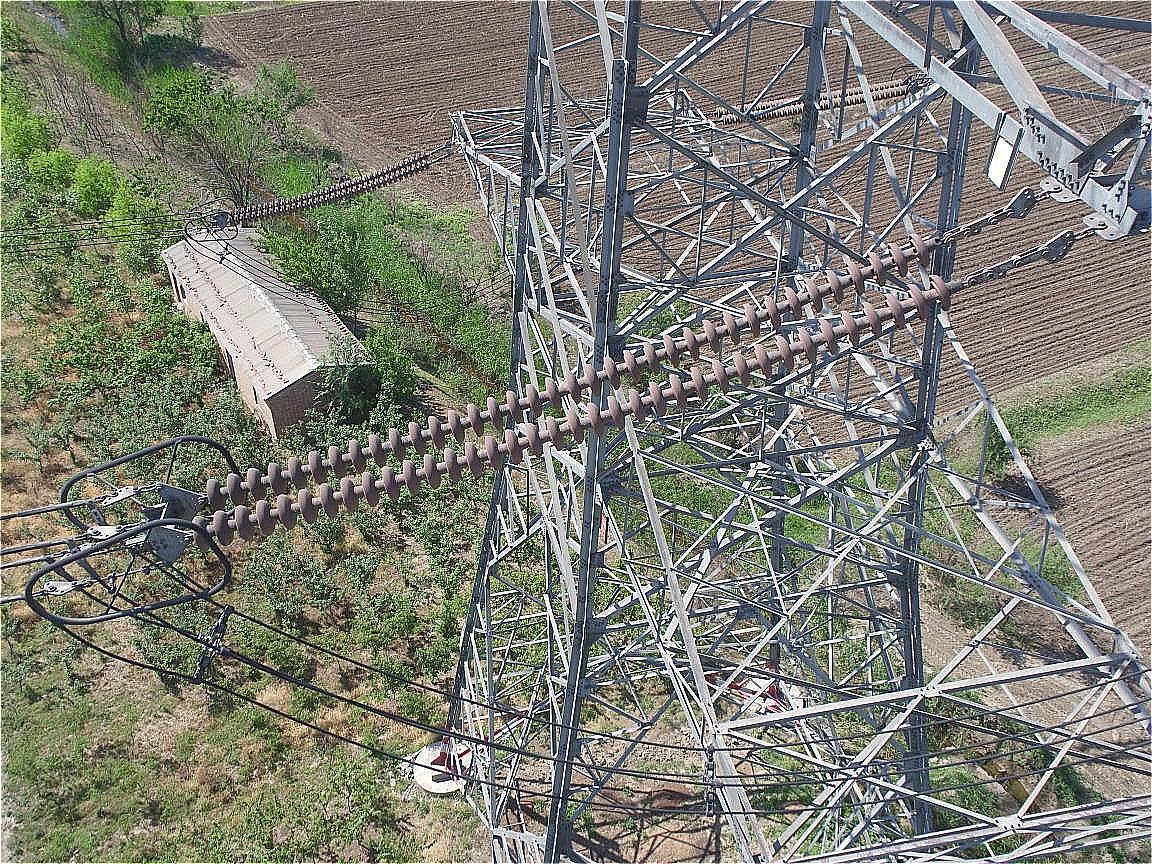insultor1: (190, 233, 951, 550)
insultor2: (233, 153, 430, 231)
